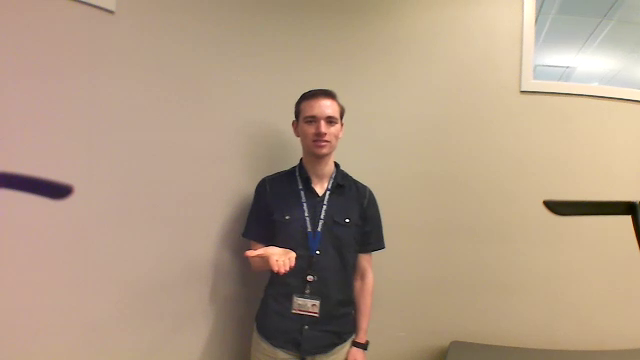land: (238, 237, 308, 283)
